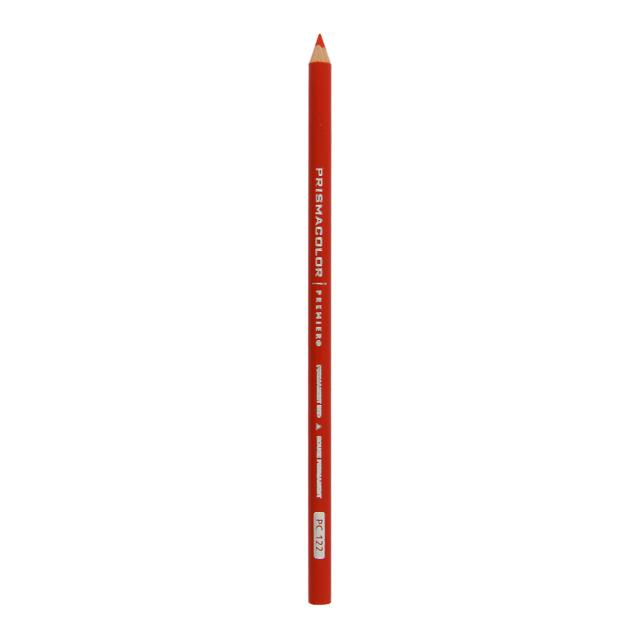pencil: (305, 29, 338, 606)
